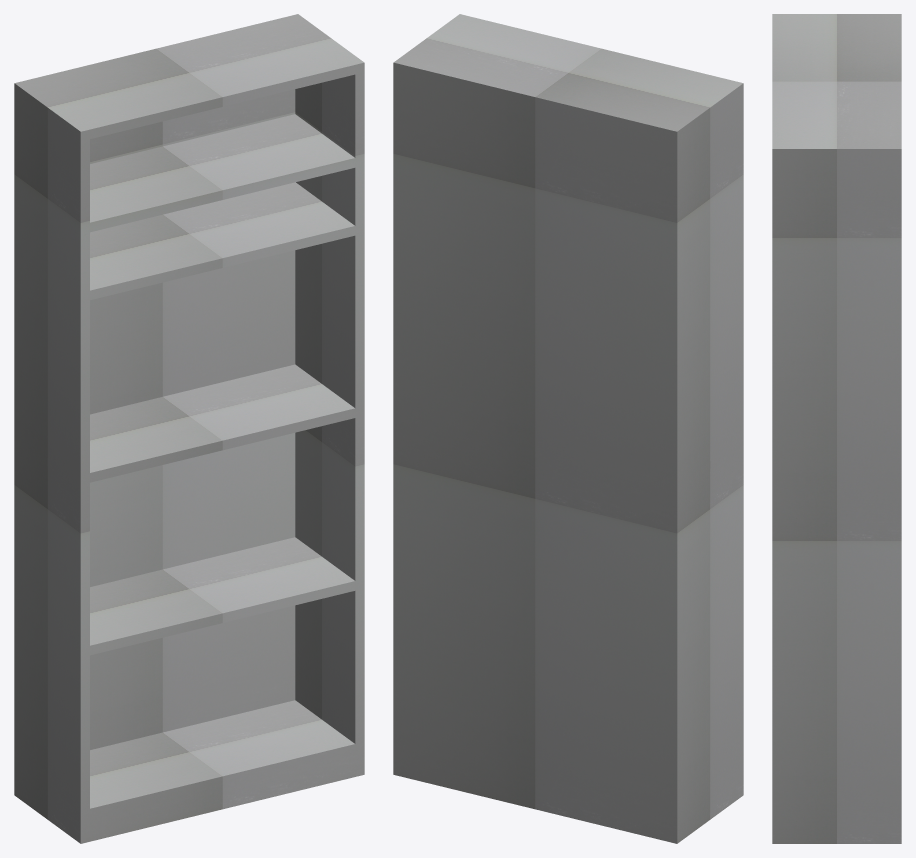
The model's file is rightShelves.dae.
The picture shows the model from 3 angles, left to right: view 1: azimuth 30°, elevation 25°; view 2: azimuth 150°, elevation 25°; view 3: azimuth 270°, elevation 25°; orthographic projection. The views are drawn at different scales.
Visible parts, largest first — view 1: SketchUp (×6); view 2: SketchUp; view 3: SketchUp.
Part boxes in pixels (x1,y1,x2,y2): SketchUp (×6): [14, 14, 364, 843]; SketchUp: [393, 14, 743, 843]; SketchUp: [772, 14, 901, 843].
Size of the model in its own units: 30.12 by 12.2 by 72.24.
1 material, 1 textured.
